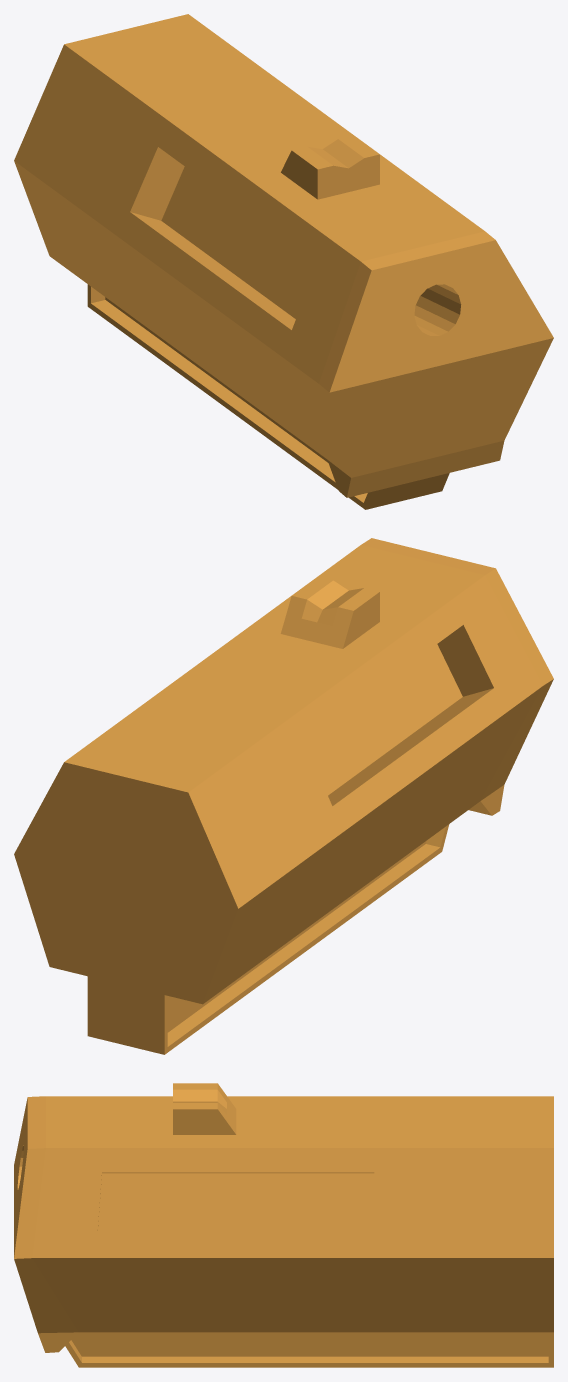
The model's file is Barrel_Dahl.glb.
3 renders of one model, top to bottom at view 1: azimuth 30°, elevation 25°; view 2: azimuth 150°, elevation 25°; view 3: azimuth 270°, elevation 25°, orthographic. The views are drawn at different scales.
Visible parts, largest first — view 1: Barrel.Dahl; view 2: Barrel.Dahl; view 3: Barrel.Dahl.
Part boxes in pixels (x1,y1,x2,y2): Barrel.Dahl: (14, 14, 553, 509); Barrel.Dahl: (14, 538, 553, 1054); Barrel.Dahl: (14, 1083, 553, 1367).
Size of the model in its own units: 0.2462 by 0.3128 by 0.5995.
